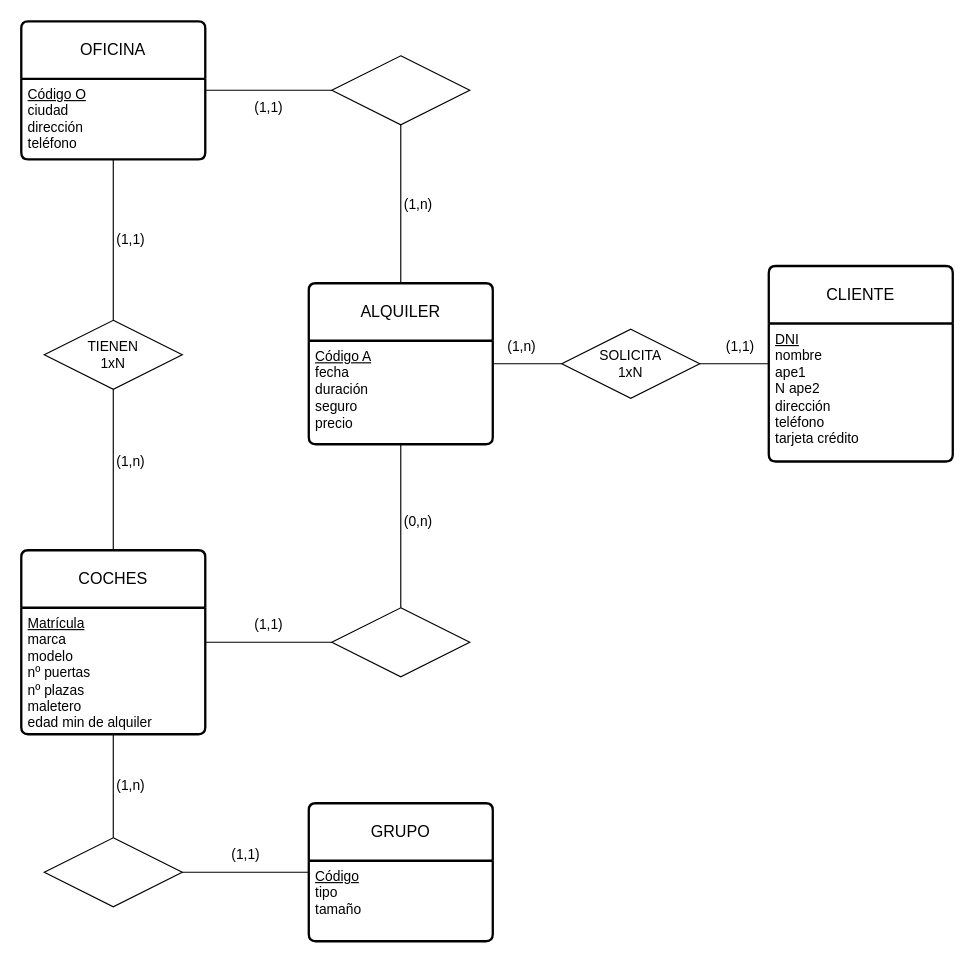
Image size: 973x961. Some labels were removed from this diagram. Here are the shapes that lost their labels. From the top down, the centre of each, then its label:
At [400,90]: "REGISTRA".
At [400,642]: "SON 1xN".
At [112,872]: "PERTENECEN 1xN".
